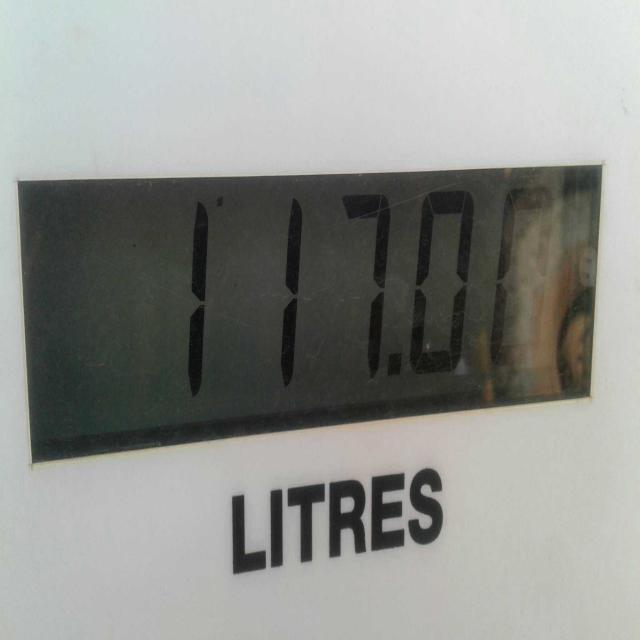.: (385, 336, 410, 396)
0: (403, 188, 478, 383), (490, 184, 560, 378)
1: (179, 203, 226, 399), (275, 198, 307, 392)
7: (342, 191, 393, 381)
